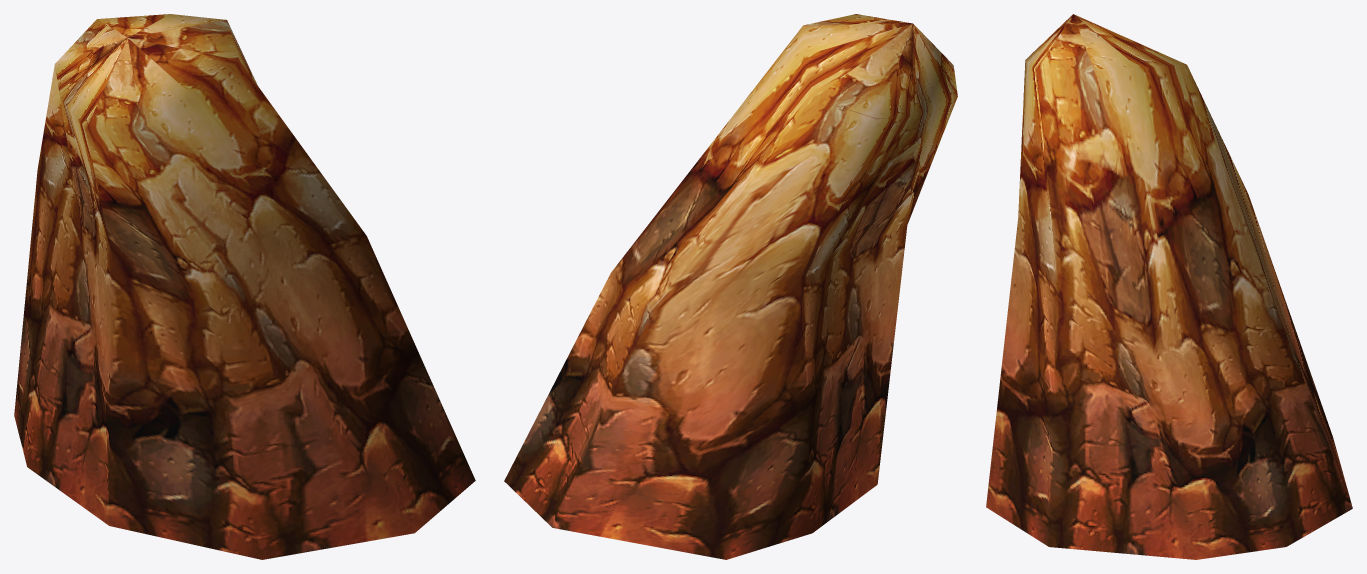
File: rock.fbx
3 renders of one model, left to right at view 1: azimuth 30°, elevation 25°; view 2: azimuth 150°, elevation 25°; view 3: azimuth 270°, elevation 25°, orthographic. The views are drawn at different scales.
Visible parts, largest first — view 1: outlandspookyrock02_0; view 2: outlandspookyrock02_0; view 3: outlandspookyrock02_0.
Part boxes in pixels (bbox=[...]): outlandspookyrock02_0: bbox=[14, 14, 475, 559]; outlandspookyrock02_0: bbox=[504, 14, 957, 559]; outlandspookyrock02_0: bbox=[986, 14, 1352, 559].
Size of the model in its own units: 6.13 by 7.27 by 5.97.
Materials: 1 (1 with a texture image).
